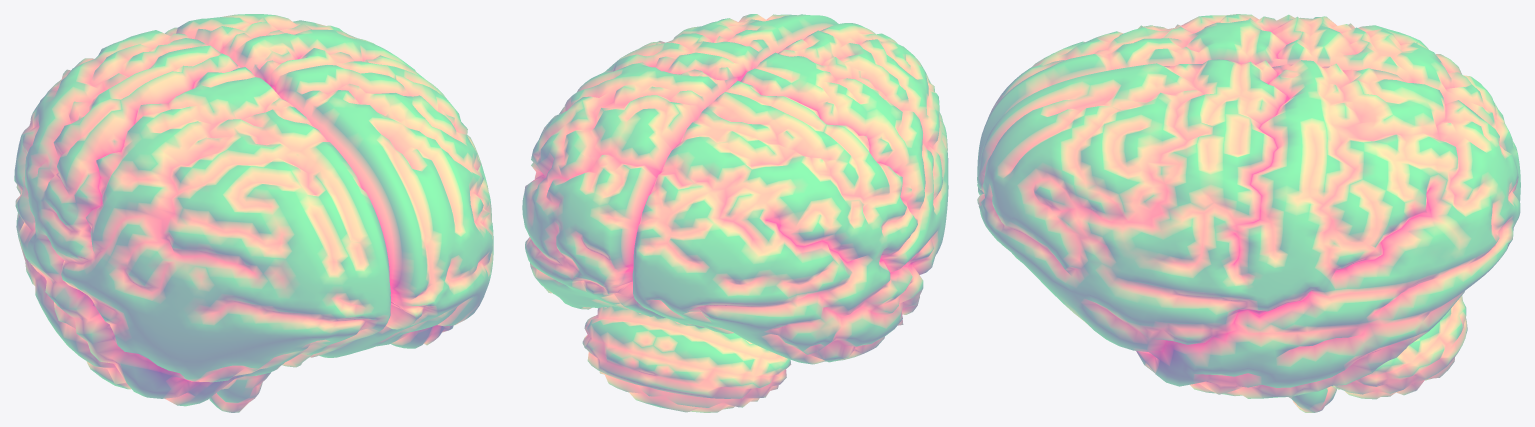
Rendered from brain_v2.glb.
3 views of the same model, side by side, from view 1: azimuth 30°, elevation 25°; view 2: azimuth 150°, elevation 25°; view 3: azimuth 270°, elevation 25° (orthographic). The views are drawn at different scales.
Visible parts, largest first — view 1: Brain; view 2: Brain; view 3: Brain.
Part boxes in pixels (x1,y1,x2,y2): Brain: (14,14,493,412); Brain: (522,14,948,412); Brain: (977,14,1520,412).
Bounding box in the file's own units: 2.76 × 2.49 × 3.41.
